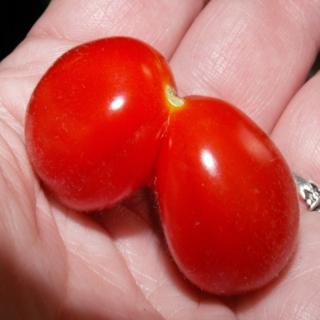tomato: (42, 42, 278, 300)
